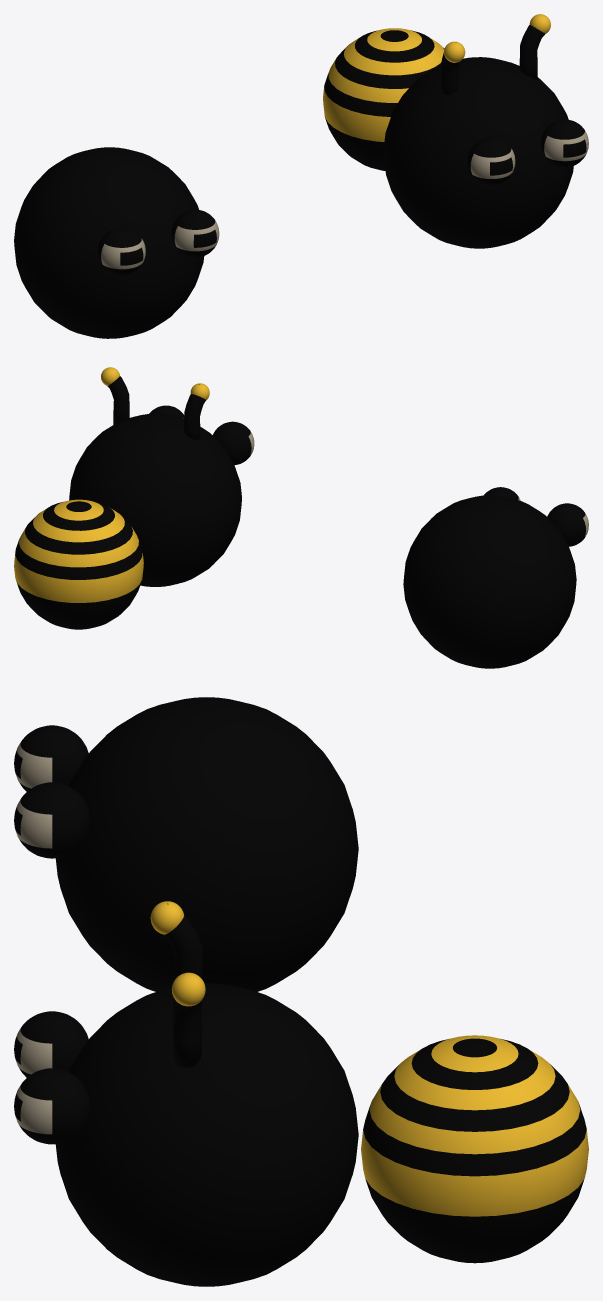
File: projectsnake4.fbx
The picture shows the model from 3 angles, top to bottom: view 1: azimuth 30°, elevation 25°; view 2: azimuth 150°, elevation 25°; view 3: azimuth 270°, elevation 25°; orthographic projection. The views are drawn at different scales.
Parts seen in each view (by area): view 1: Sphere, Sphere.001, Sphere.002; view 2: Sphere.001, Sphere, Sphere.002; view 3: Sphere, Sphere.001, Sphere.002.
Boxes of the visible parts, bbox=[...] form: Sphere: bbox=[383, 14, 588, 248]; Sphere.001: bbox=[14, 147, 219, 338]; Sphere.002: bbox=[323, 28, 444, 170]; Sphere.001: bbox=[403, 487, 588, 668]; Sphere: bbox=[69, 367, 254, 586]; Sphere.002: bbox=[14, 499, 143, 629]; Sphere: bbox=[14, 901, 358, 1286]; Sphere.001: bbox=[14, 697, 358, 991]; Sphere.002: bbox=[361, 1035, 588, 1263].
Size of the model in its own units: 129 by 49.55 by 75.64.
